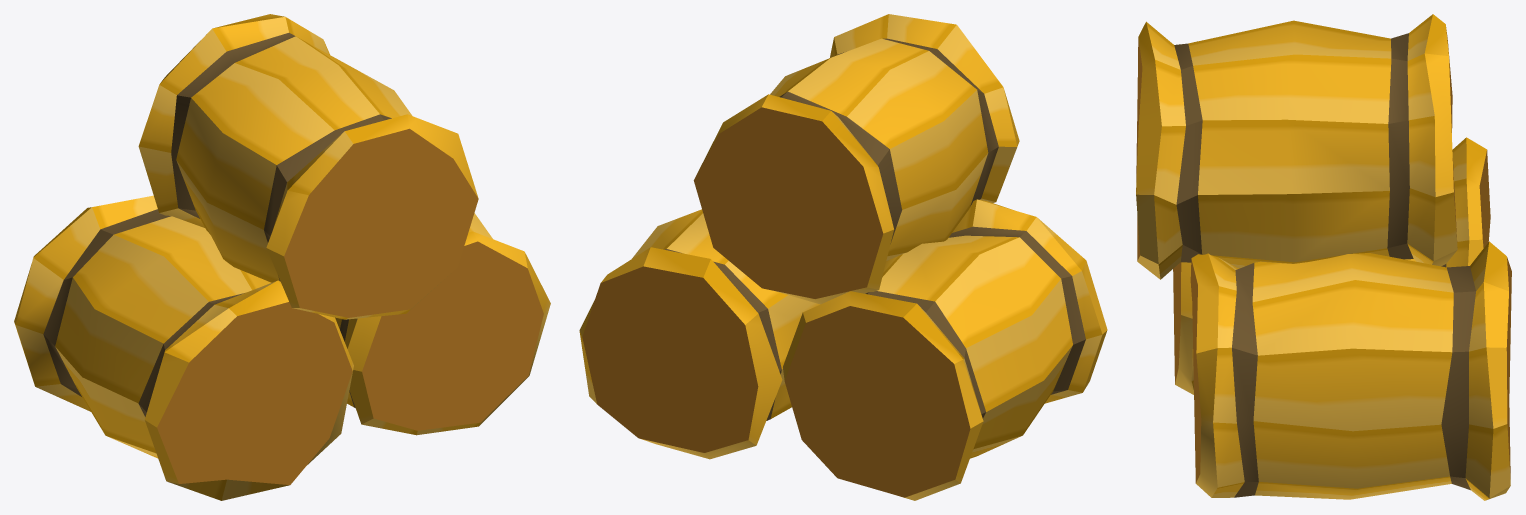
The model's file is haybale.fbx.
3 renders of one model, left to right at view 1: azimuth 30°, elevation 25°; view 2: azimuth 150°, elevation 25°; view 3: azimuth 270°, elevation 25°, orthographic. The views are drawn at different scales.
Visible parts, largest first — view 1: haybale_LOD0; view 2: haybale_LOD0; view 3: haybale_LOD0.
Part boxes in pixels (x1=…): haybale_LOD0: x1=14, y1=14, x2=550, y2=500; haybale_LOD0: x1=579, y1=14, x2=1107, y2=500; haybale_LOD0: x1=1136, y1=14, x2=1511, y2=500.
Size of what is drawn, in the model's own units: 3.78 by 3.22 by 2.72.
